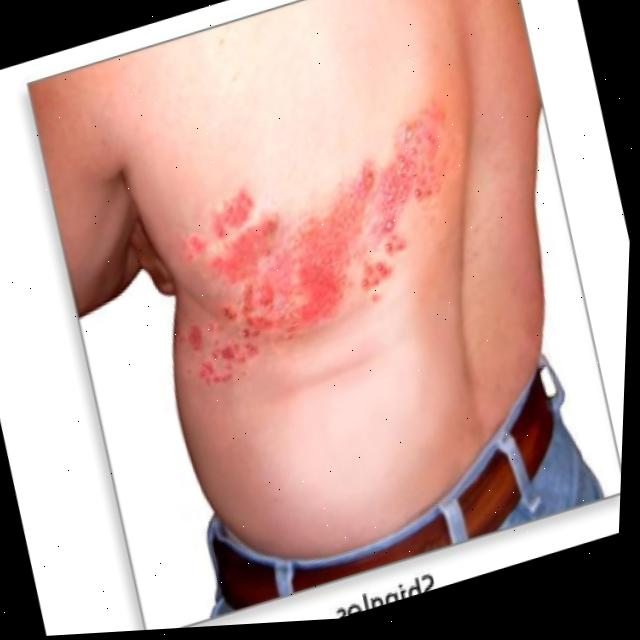Shingles: (145, 108, 481, 395)
